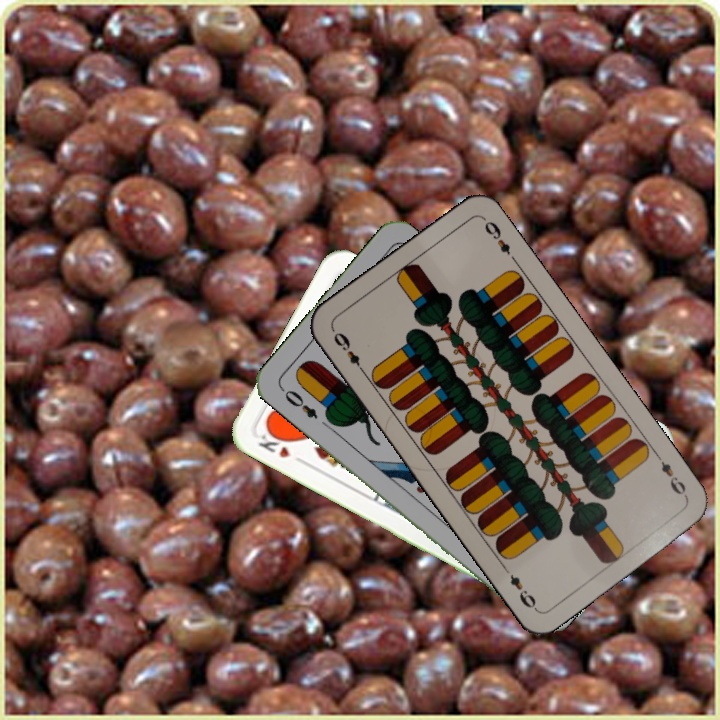E9: (651, 449, 691, 502), (328, 326, 368, 377)
EO: (276, 384, 321, 422)
HK: (254, 425, 308, 467)
